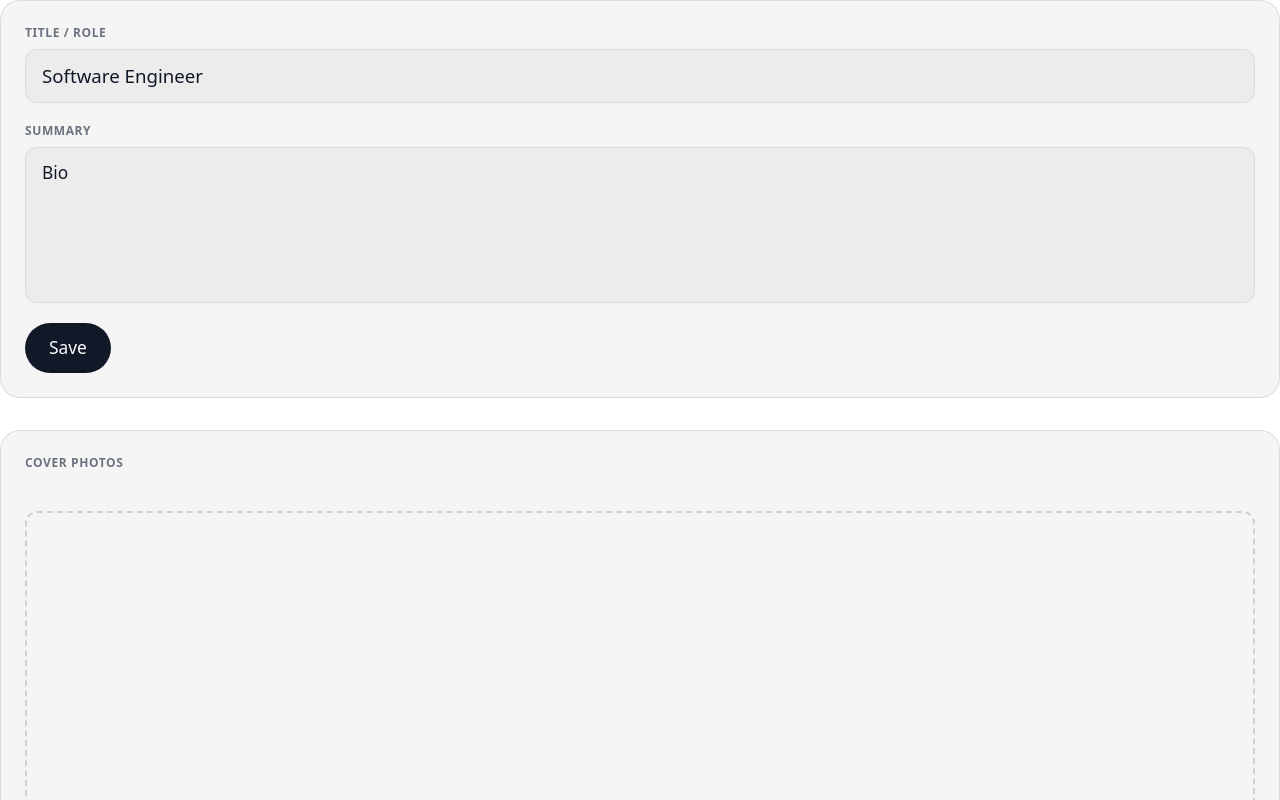
Test case: IntroEditorForm - save › shows an inline error and no success confirmation when the save fails
Step 1. Click the button "Save" → {"x": 68, "y": 348}, box [25,323,111,373]
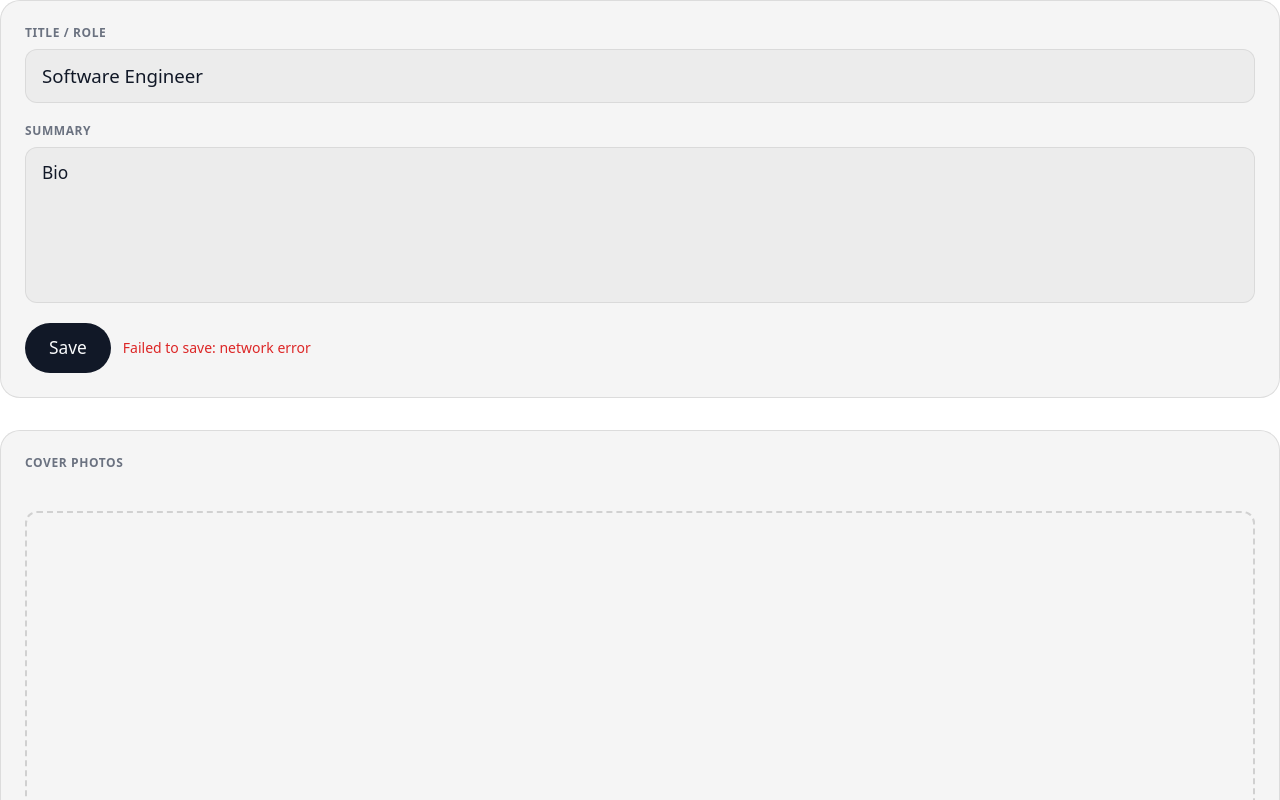
Result: the message reads "Failed to save: network error" at [123,338,311,357]
